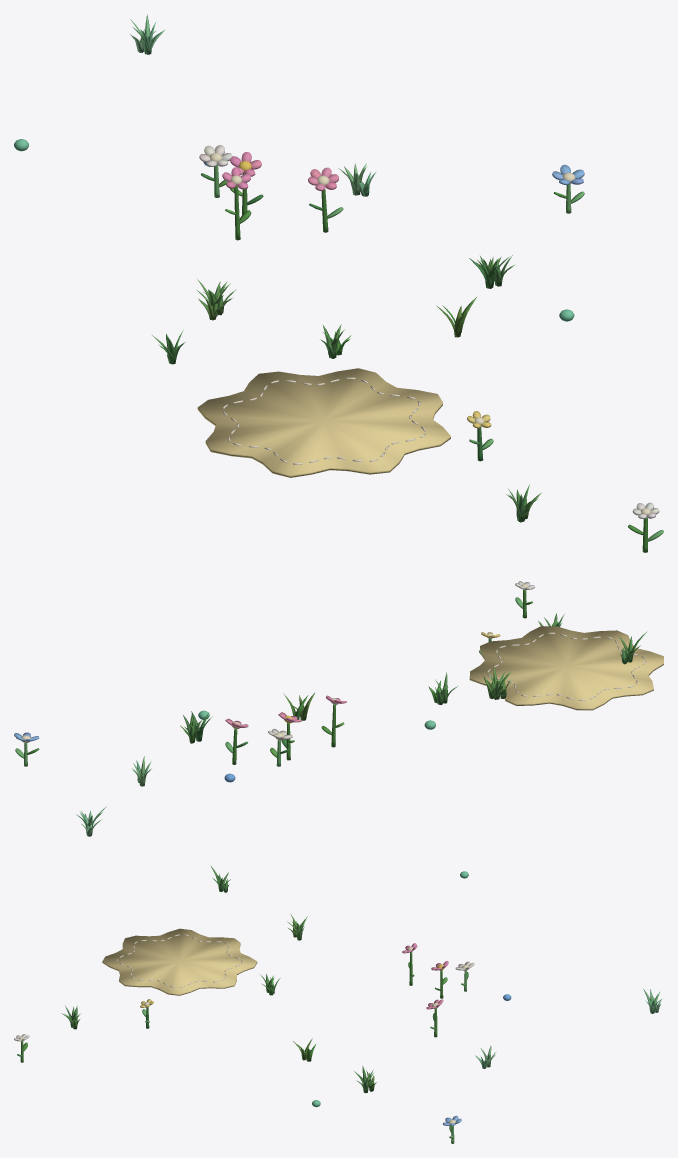
File: W3_FloraRing_7_10.fbx
3 renders of one model, top to bottom at view 1: azimuth 30°, elevation 25°; view 2: azimuth 150°, elevation 25°; view 3: azimuth 270°, elevation 25°, orthographic. The views are drawn at different scales.
Parts seen in each view (by area): view 1: W3_FloraRing_7_10; view 2: W3_FloraRing_7_10; view 3: W3_FloraRing_7_10.
Part boxes in pixels (x1,y1,x2,y2): W3_FloraRing_7_10: (14, 14, 663, 552); W3_FloraRing_7_10: (14, 581, 663, 836); W3_FloraRing_7_10: (14, 866, 662, 1143).
Size of the model in its own units: 2.2 by 0.6775 by 3.37.
